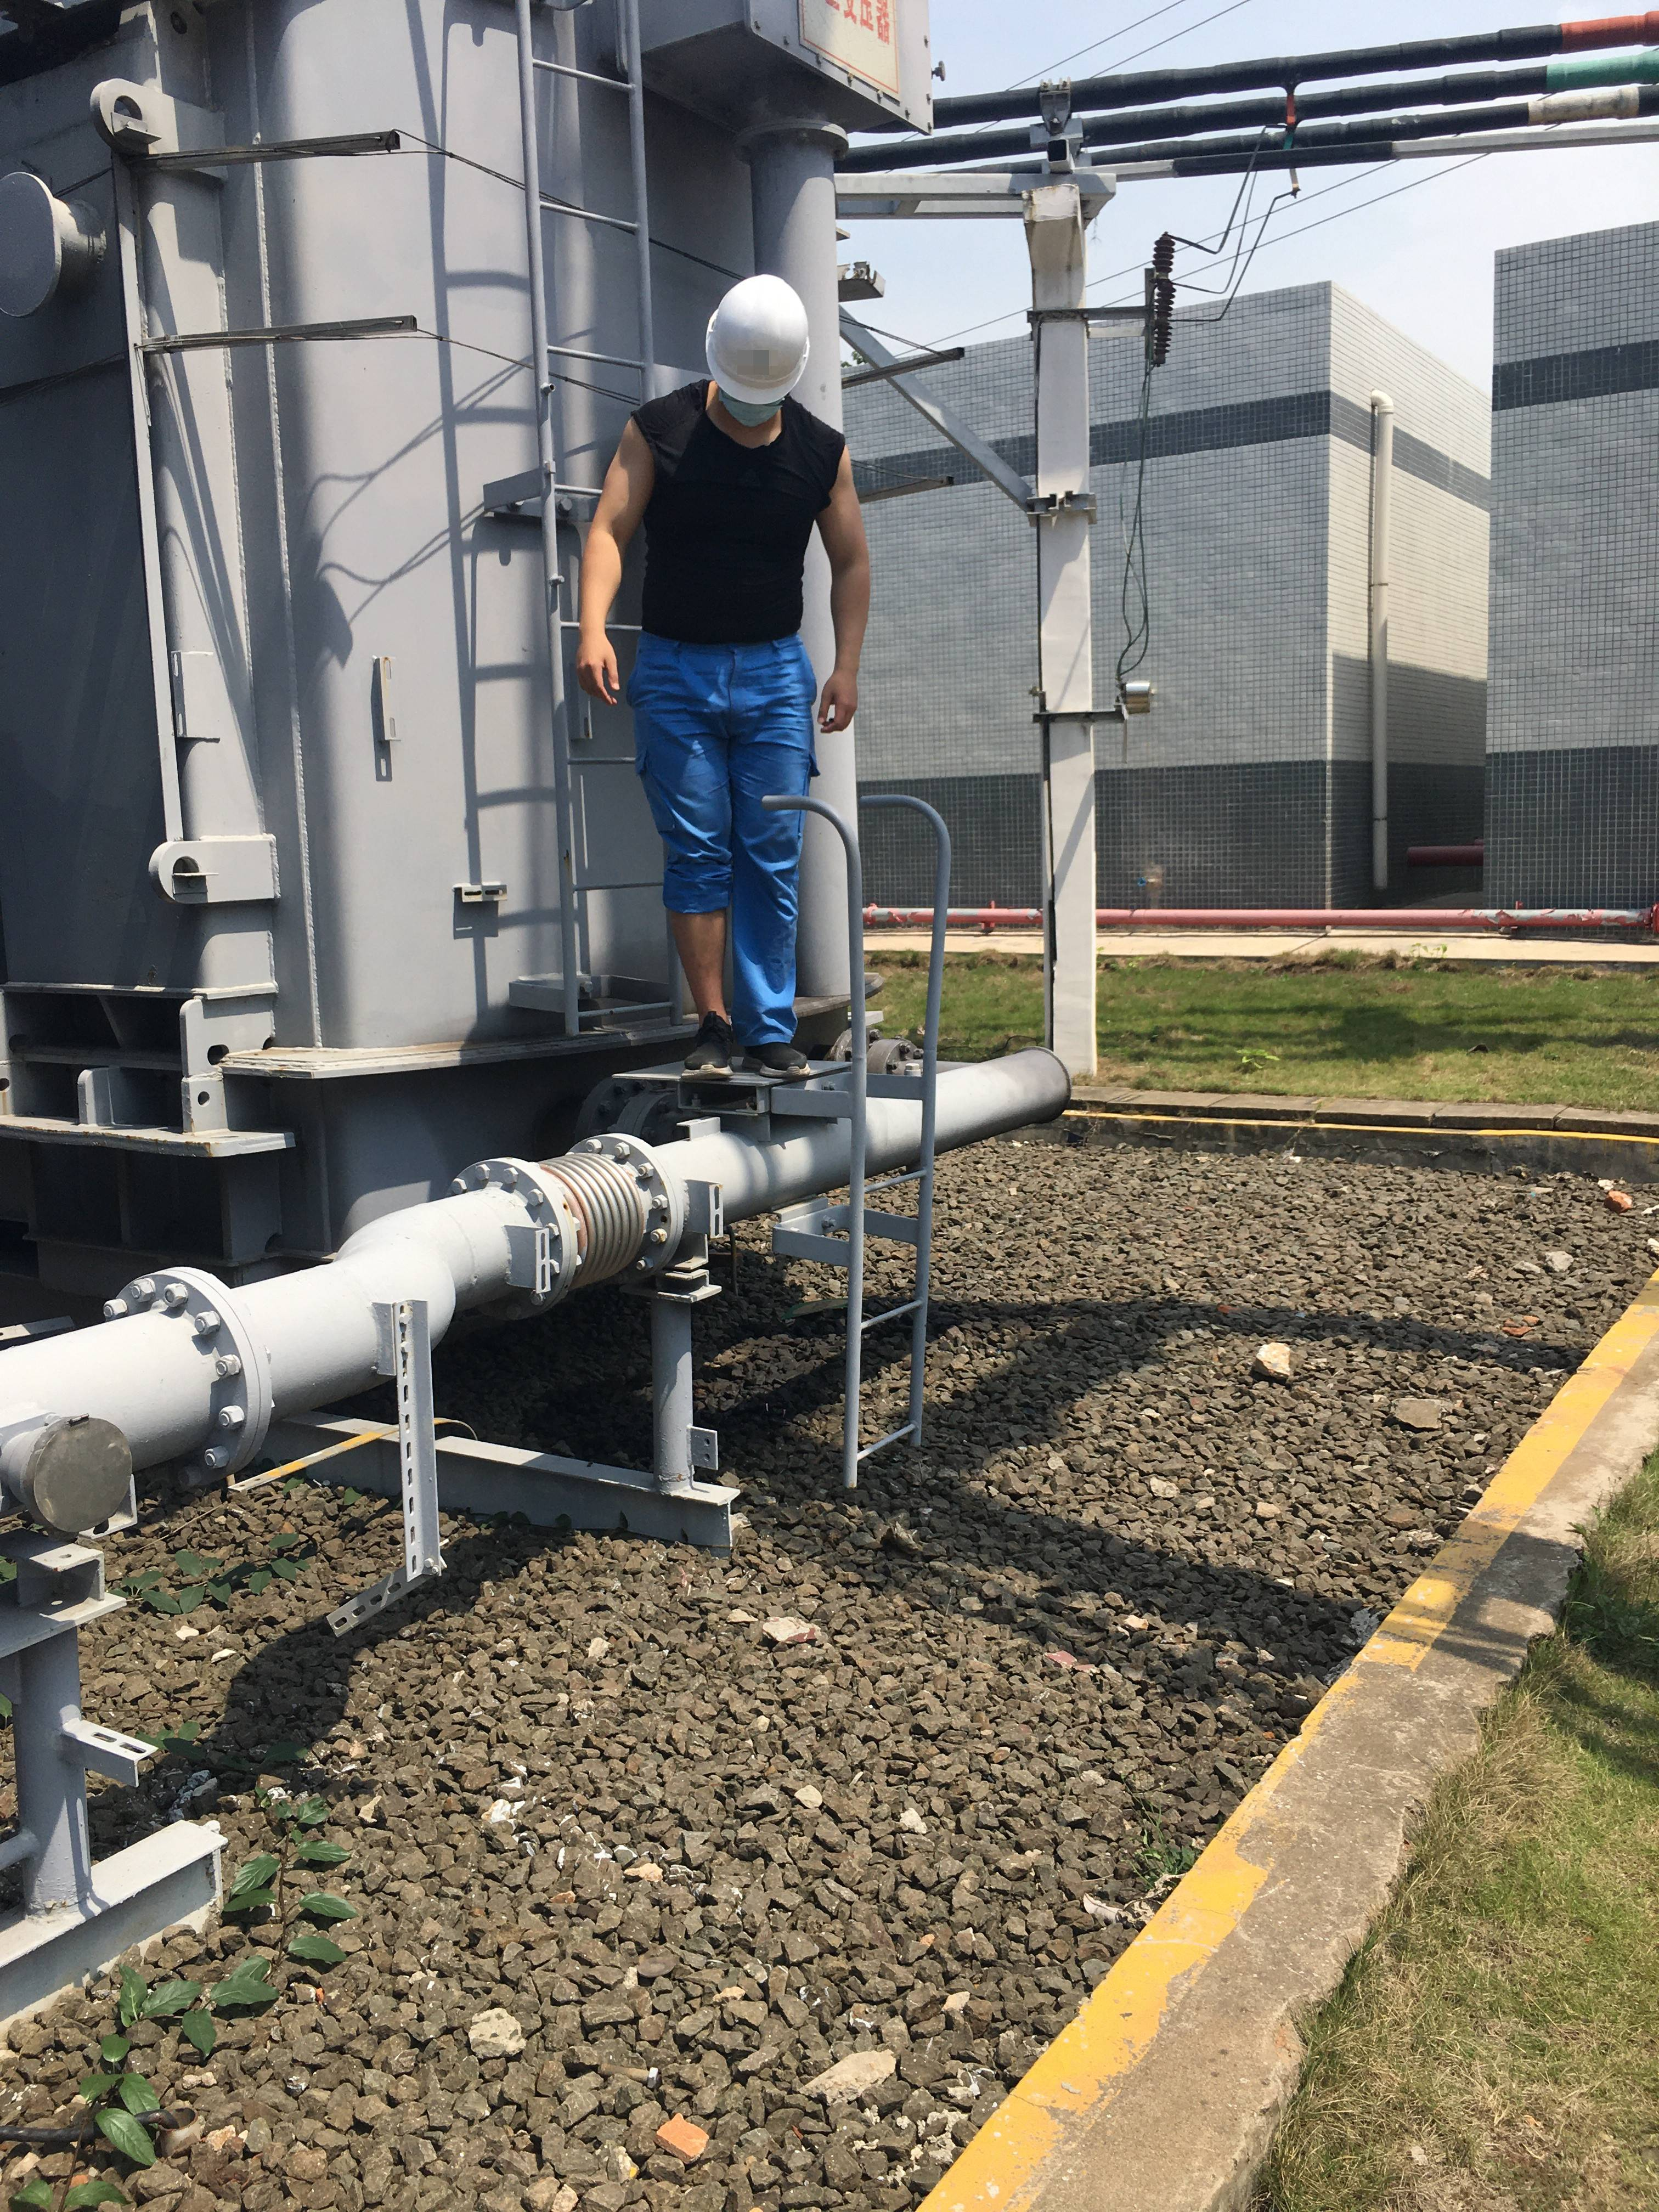downsuit: (631, 662, 805, 1038)
upcloth: (631, 388, 833, 644)
wrongbottom: (662, 883, 739, 1033)
